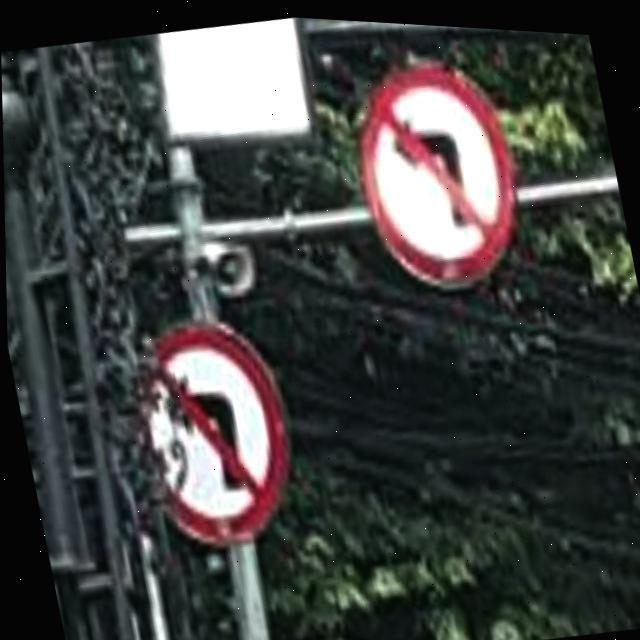Dilarang Belok Kiri: (348, 42, 527, 282), (161, 308, 301, 542)
